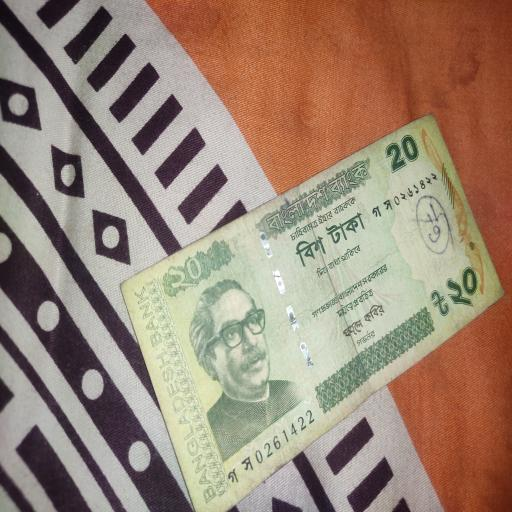20taka: (120, 115, 505, 511)
